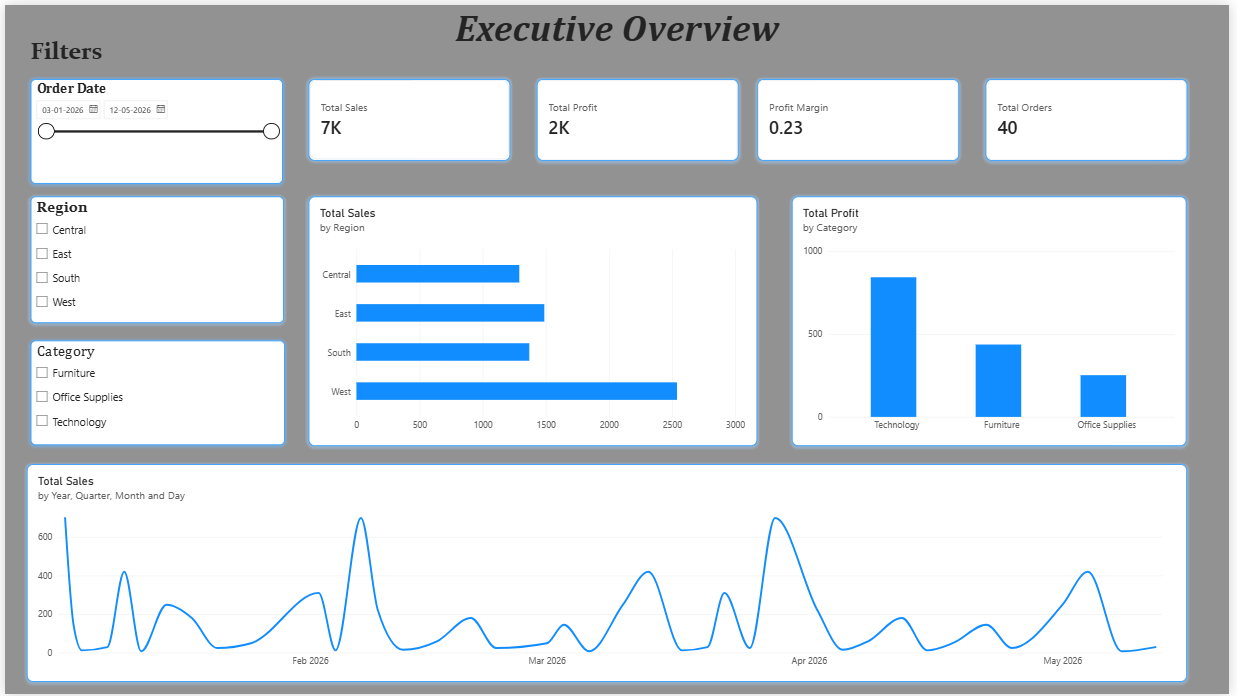

The page's visual inventory and layout, read from the dashboard file:
{"tool":"powerbi","page":{"name":"Executive Overview","canvas":[1920,1080],"ordinal":0},"visuals":[{"type":"cardVisual","fields":{"Data":["SalesData.Total Sales"]},"box":[476.6,116.5,317.2,129],"z":0},{"type":"cardVisual","fields":{"Data":["SalesData.Total Orders"]},"box":[1537.4,116.5,317.2,129],"z":1000},{"type":"cardVisual","fields":{"Data":["SalesData.Profit Margin"]},"box":[1180.8,116.5,317.2,129],"z":2000},{"type":"cardVisual","fields":{"Data":["SalesData.Total Profit"]},"box":[833.2,116.5,317.2,129],"z":3000},{"type":"barChart","fields":{"Category":["SalesData.Region","SalesData.Order Date.Variation.Date Hierarchy.Year","SalesData.Order Date.Variation.Date Hierarchy.Quarter","SalesData.Order Date.Variation.Date Hierarchy.Month","SalesData.Order Date.Variation.Date Hierarchy.Day"],"Y":["SalesData.Total Sales"]},"box":[476.6,299.2,704.2,392.4],"z":4000},{"type":"lineChart","fields":{"Category":["SalesData.Order Date.Variation.Date Hierarchy.Year","SalesData.Order Date.Variation.Date Hierarchy.Quarter","SalesData.Order Date.Variation.Date Hierarchy.Month","SalesData.Order Date.Variation.Date Hierarchy.Day"],"Y":["SalesData.Total Sales"]},"box":[34,720.3,1820.5,342.2],"z":5000},{"type":"columnChart","fields":{"Category":["SalesData.Category"],"Y":["SalesData.Total Profit"]},"box":[1234.6,299.2,620,392.4],"z":6000},{"type":"textbox","box":[637.9,0,645.1,98.6],"z":7000},{"type":"slicer","fields":{"Values":["SalesData.Order Date"]},"box":[39.4,116.5,396,164.8],"z":7001},{"type":"slicer","fields":{"Values":["SalesData.Category"]},"box":[39.4,526.8,399.6,164.8],"z":7002},{"type":"slicer","fields":{"Values":["SalesData.Region"]},"box":[39.4,299.2,397.8,198.9],"z":7003},{"type":"textbox","box":[39.4,50.2,206.1,82.4],"z":7004}]}

Visuals, with their boxes in screenshot pixels (x1, y1, x2, y2), scaled from the page's 1920x1080 canvas onto the 1237x696 screenshot:
cardVisual - SalesData.Total Sales: 307:75:511:158
cardVisual - SalesData.Total Orders: 991:75:1195:158
cardVisual - SalesData.Profit Margin: 761:75:965:158
cardVisual - SalesData.Total Profit: 537:75:741:158
barChart - SalesData.Region x SalesData.Order Date.Variation.Date Hierarchy.Year: 307:193:761:446
lineChart - SalesData.Order Date.Variation.Date Hierarchy.Year x SalesData.Order Date.Variation.Date Hierarchy.Quarter: 22:464:1195:685
columnChart - SalesData.Category x SalesData.Total Profit: 795:193:1195:446
textbox: 411:0:827:64
slicer - SalesData.Order Date: 25:75:281:181
slicer - SalesData.Category: 25:339:283:446
slicer - SalesData.Region: 25:193:282:321
textbox: 25:32:158:85
